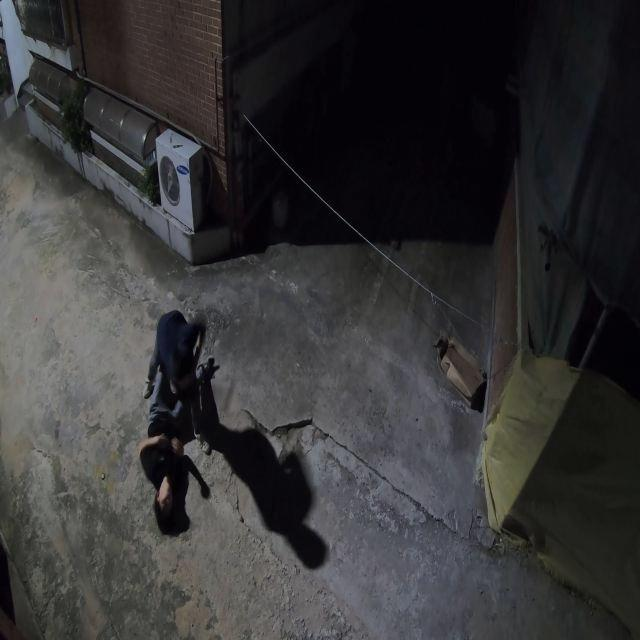fight: (138, 303, 217, 544)
